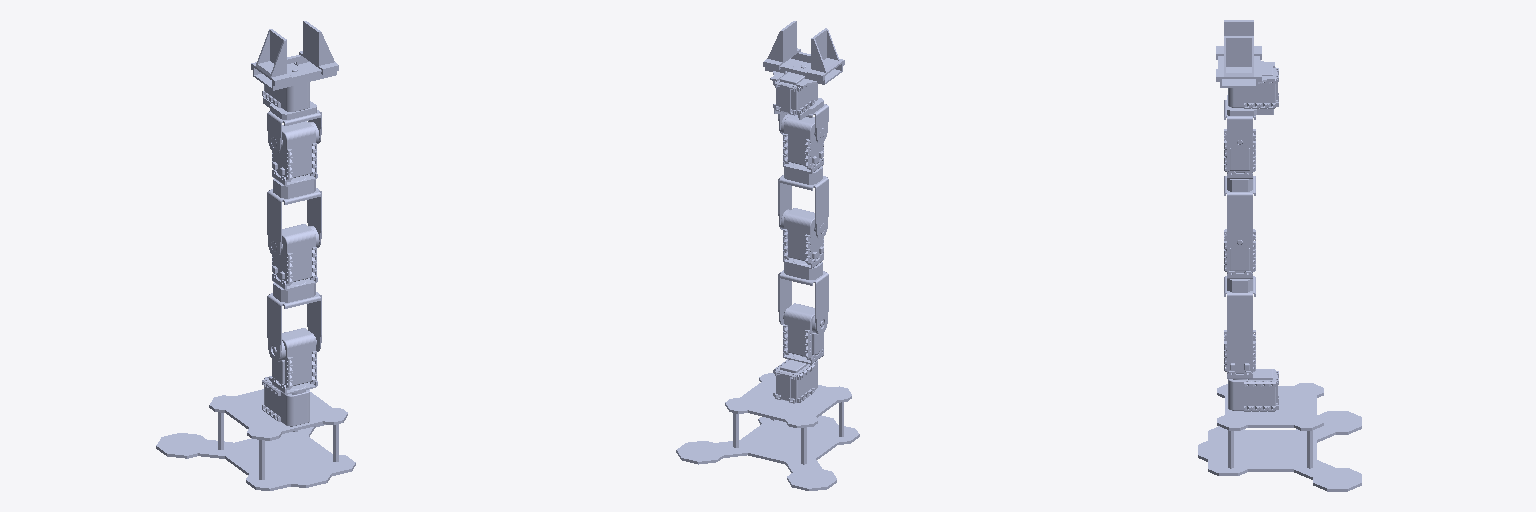
URDF robot description (robotpincher):
<?xml version="1.0" encoding="utf-8"?>
<!-- This URDF was automatically created by SolidWorks to URDF Exporter! Originally created by [author] ([email redacted]) 
     Commit Version: 1.5.1-0-g916b5db  Build Version: 1.5.7152.31018
     For more information, please see http://wiki.ros.org/sw_urdf_exporter -->
<robot
  name="robotpincher">
 <!-- Used for fixing robot to Gazebo 'base_link' -->
<!--link name="world"/> <joint name="fixed" type="fixed"> <parent link="world"/> <child link="base_link"/> </joint>-->

 <link
    name="base_link">
    <inertial>
      <origin
        xyz="-3.0003E-12 0.028128 -0.011116"
        rpy="0 0 0" />
      <mass
        value="0.12147" />
      <inertia
        ixx="0.00017253"
        ixy="-1.4609E-15"
        ixz="5.2081E-15"
        iyy="0.00015924"
        iyz="8.6917E-06"
        izz="0.00024303" />
    </inertial>
    <visual>
      <origin
        xyz="0 0 0"
        rpy="0 0 0" />
      <geometry>
        <mesh
          filename="package://robotpincher/meshes/base_link.STL" />
      </geometry>
      <material
        name="">
        <color
          rgba="0.79216 0.81961 0.93333 1" />
      </material>
    </visual>
    <collision>
      <origin
        xyz="0 0 0"
        rpy="0 0 0" />
      <geometry>
        <mesh
          filename="package://robotpincher/meshes/base_link.STL" />
      </geometry>
    </collision>
  </link>
  <link
    name="Link1">
    <inertial>
      <origin
        xyz="-0.00096532 -6.2613E-12 0.067704"
        rpy="0 0 0" />
      <mass
        value="0.045584" />
      <inertia
        ixx="1.0435E-05"
        ixy="-5.2081E-15"
        ixz="-2.5269E-07"
        iyy="1.2447E-05"
        iyz="1.4608E-15"
        izz="7.1283E-06" />
    </inertial>
    <visual>
      <origin
        xyz="0 0 0"
        rpy="0 0 0" />
      <geometry>
        <mesh
          filename="package://robotpincher/meshes/Link1.STL" />
      </geometry>
      <material
        name="">
        <color
          rgba="0.79216 0.81961 0.93333 1" />
      </material>
    </visual>
    <collision>
      <origin
        xyz="0 0 0"
        rpy="0 0 0" />
      <geometry>
        <mesh
          filename="package://robotpincher/meshes/Link1.STL" />
      </geometry>
    </collision>
  </link>
  <joint
    name="Joint1"
    type="revolute">
    <origin
      xyz="0 0 0"
      rpy="0 0 0" />
    <parent
      link="base_link" />
    <child
      link="Link1" />
    <axis
      xyz="0 0 1" />
    <limit
      lower="-1.5708"
      upper="1.5708"
      effort="1000"
      velocity="0.5" />
  </joint>

<transmission name="tran1">
    <type>transmission_interface/SimpleTransmission</type>
    <joint name="Joint1">
	<hardwareInterface>EffortJointInterface</hardwareInterface>
    </joint>
    <actuator name="motor1">
      <hardwareInterface>EffortJointInterface</hardwareInterface>
      <mechanicalReduction>1</mechanicalReduction>
    </actuator>
  </transmission>

  <link
    name="Link2">
    <inertial>
      <origin
        xyz="0.081532 -4.4146E-12 0.00071738"
        rpy="0 0 0" />
      <mass
        value="0.064652" />
      <inertia
        ixx="1.1916E-05"
        ixy="1.4609E-15"
        ixz="3.2612E-07"
        iyy="1.8721E-05"
        iyz="5.2081E-15"
        izz="1.3966E-05" />
    </inertial>
    <visual>
      <origin
        xyz="0 0 0"
        rpy="0 0 0" />
      <geometry>
        <mesh
          filename="package://robotpincher/meshes/Link2.STL" />
      </geometry>
      <material
        name="">
        <color
          rgba="0.79216 0.81961 0.93333 1" />
      </material>
    </visual>
    <collision>
      <origin
        xyz="0 0 0"
        rpy="0 0 0" />
      <geometry>
        <mesh
          filename="package://robotpincher/meshes/Link2.STL" />
      </geometry>
    </collision>
  </link>
  <joint
    name="Joint2"
    type="revolute">
    <origin
      xyz="0 0 0.080912"
      rpy="3.1416 -1.5708 0" />
    <parent
      link="Link1" />
    <child
      link="Link2" />
    <axis
      xyz="0 0 -1" />
    <limit
     lower="-1.5708"
      upper="1.5708"
      effort="1000"
      velocity="0.5" />
  </joint>

<transmission name="tran2">
    <type>transmission_interface/SimpleTransmission</type>
    <joint name="Joint2">
	<hardwareInterface>EffortJointInterface</hardwareInterface>
    </joint>
    <actuator name="motor2">
      <hardwareInterface>EffortJointInterface</hardwareInterface>
      <mechanicalReduction>1</mechanicalReduction>
    </actuator>
  </transmission>

  <link
    name="Link3">
    <inertial>
      <origin
        xyz="0.081532 -4.4141E-12 0.00071738"
        rpy="0 0 0" />
      <mass
        value="0.064652" />
      <inertia
        ixx="1.1916E-05"
        ixy="1.4608E-15"
        ixz="3.2612E-07"
        iyy="1.8721E-05"
        iyz="5.2081E-15"
        izz="1.3966E-05" />
    </inertial>
    <visual>
      <origin
        xyz="0 0 0"
        rpy="0 0 0" />
      <geometry>
        <mesh
          filename="package://robotpincher/meshes/Link3.STL" />
      </geometry>
      <material
        name="">
        <color
          rgba="0.79216 0.81961 0.93333 1" />
      </material>
    </visual>
    <collision>
      <origin
        xyz="0 0 0"
        rpy="0 0 0" />
      <geometry>
        <mesh
          filename="package://robotpincher/meshes/Link3.STL" />
      </geometry>
    </collision>
  </link>
  <joint
    name="Joint3"
    type="revolute">
    <origin
      xyz="0.10798 0 0"
      rpy="0 0 0" />
    <parent
      link="Link2" />
    <child
      link="Link3" />
    <axis
      xyz="0 0 -1" />
    <limit
      lower="-1.570"
      upper="1.570"
      effort="1000"
      velocity="0.5" />
  </joint>

<transmission name="tran3">
    <type>transmission_interface/SimpleTransmission</type>
    <joint name="Joint3">
	<hardwareInterface>EffortJointInterface</hardwareInterface>
    </joint>
    <actuator name="motor3">
      <hardwareInterface>EffortJointInterface</hardwareInterface>
      <mechanicalReduction>1</mechanicalReduction>
    </actuator>
  </transmission>

  <link
    name="Link4">
    <inertial>
      <origin
        xyz="0.044275 -0.010475 4.2545E-05"
        rpy="0 0 0" />
      <mass
        value="0.055887" />
      <inertia
        ixx="1.397E-05"
        ixy="2.6941E-07"
        ixz="3.839E-08"
        iyy="9.7406E-06"
        iyz="1.461E-15"
        izz="1.3925E-05" />
    </inertial>
    <visual>
      <origin
        xyz="0 0 0"
        rpy="0 0 0" />
      <geometry>
        <mesh
          filename="package://robotpincher/meshes/Link4.STL" />
      </geometry>
      <material
        name="">
        <color
          rgba="0.79216 0.81961 0.93333 1" />
      </material>
    </visual>
    <collision>
      <origin
        xyz="0 0 0"
        rpy="0 0 0" />
      <geometry>
        <mesh
          filename="package://robotpincher/meshes/Link4.STL" />
      </geometry>
    </collision>
  </link>
  <joint
    name="Joint4"
    type="revolute">
    <origin
      xyz="0.10798 0 0"
      rpy="0 0 0" />
    <parent
      link="Link3" />
    <child
      link="Link4" />
    <axis
      xyz="0 0 -1" />
    <limit
      lower="-1.5708"
      upper="1.5708"
      effort="1000"
      velocity="0.5" />
  </joint>

  <transmission name="tran4">
    <type>transmission_interface/SimpleTransmission</type>
    <joint name="Joint4">
	<hardwareInterface>EffortJointInterface</hardwareInterface>
    </joint>
    <actuator name="motor4">
      <hardwareInterface>EffortJointInterface</hardwareInterface>
      <mechanicalReduction>1</mechanicalReduction>
    </actuator>
  </transmission>

  <link
    name="Link5">
    <inertial>
      <origin
        xyz="-0.032112 -0.00040962 1.7381E-15"
        rpy="0 0 0" />
      <mass
        value="0.021767" />
      <inertia
        ixx="7.4327E-06"
        ixy="-2.4046E-08"
        ixz="-3.7014E-20"
        iyy="5.6772E-06"
        iyz="-1.388E-21"
        izz="5.5543E-06" />
    </inertial>
    <visual>
      <origin
        xyz="0 0 0"
        rpy="0 0 0" />
      <geometry>
        <mesh
          filename="package://robotpincher/meshes/Link5.STL" />
      </geometry>
      <material
        name="">
        <color
          rgba="0.79216 0.81961 0.93333 1" />
      </material>
    </visual>
    <collision>
      <origin
        xyz="0 0 0"
        rpy="0 0 0" />
      <geometry>
        <mesh
          filename="package://robotpincher/meshes/Link5.STL" />
      </geometry>
    </collision>
  </link>
  <joint
    name="Joint5"
    type="fixed">
    <origin
      xyz="0.11145 0.00105 0"
      rpy="0 0 0" />
    <parent
      link="Link4" />
    <child
      link="Link5" />
    <axis
      xyz="0 0 0" />
    <limit
      lower="0"
      upper="0"
      effort="0"
      velocity="0" />
  </joint>

 

</robot>

--- Render facts (derived) ---
The picture shows the robot from 3 angles, left to right: view 1: azimuth 30°, elevation 25°; view 2: azimuth 150°, elevation 25°; view 3: azimuth 270°, elevation 25°; orthographic projection.
Robot: robotpincher — 6 links, 5 joints (4 revolute, 1 fixed); root link base_link; default pose: all joints at 0.
Visible links, largest first — view 1: base_link, Link2, Link3, Link5, Link4, Link1; view 2: base_link, Link2, Link3, Link5, Link4, Link1; view 3: base_link, Link3, Link2, Link5, Link4, Link1.
Link boxes in pixels (x1=…): base_link: x1=156, y1=376, x2=355, y2=490; Link2: x1=267, y1=224, x2=321, y2=361; Link3: x1=267, y1=121, x2=321, y2=257; Link5: x1=251, y1=21, x2=338, y2=90; Link4: x1=262, y1=63, x2=321, y2=153; Link1: x1=272, y1=328, x2=317, y2=394; base_link: x1=676, y1=354, x2=859, y2=490; Link2: x1=778, y1=208, x2=828, y2=334; Link3: x1=778, y1=114, x2=828, y2=238; Link5: x1=763, y1=21, x2=844, y2=87; Link4: x1=773, y1=63, x2=828, y2=143; Link1: x1=783, y1=303, x2=823, y2=364; base_link: x1=1198, y1=369, x2=1361, y2=491; Link3: x1=1224, y1=129, x2=1255, y2=252; Link2: x1=1224, y1=229, x2=1255, y2=352; Link5: x1=1216, y1=20, x2=1274, y2=87; Link4: x1=1224, y1=66, x2=1278, y2=152; Link1: x1=1224, y1=330, x2=1255, y2=378.
Bounding box of the posed robot: 0.1792 × 0.161 × 0.4609 m (x, y, z).
Meshes: 6 distinct files referenced, 6 mesh visuals loaded (6 binary STL).
